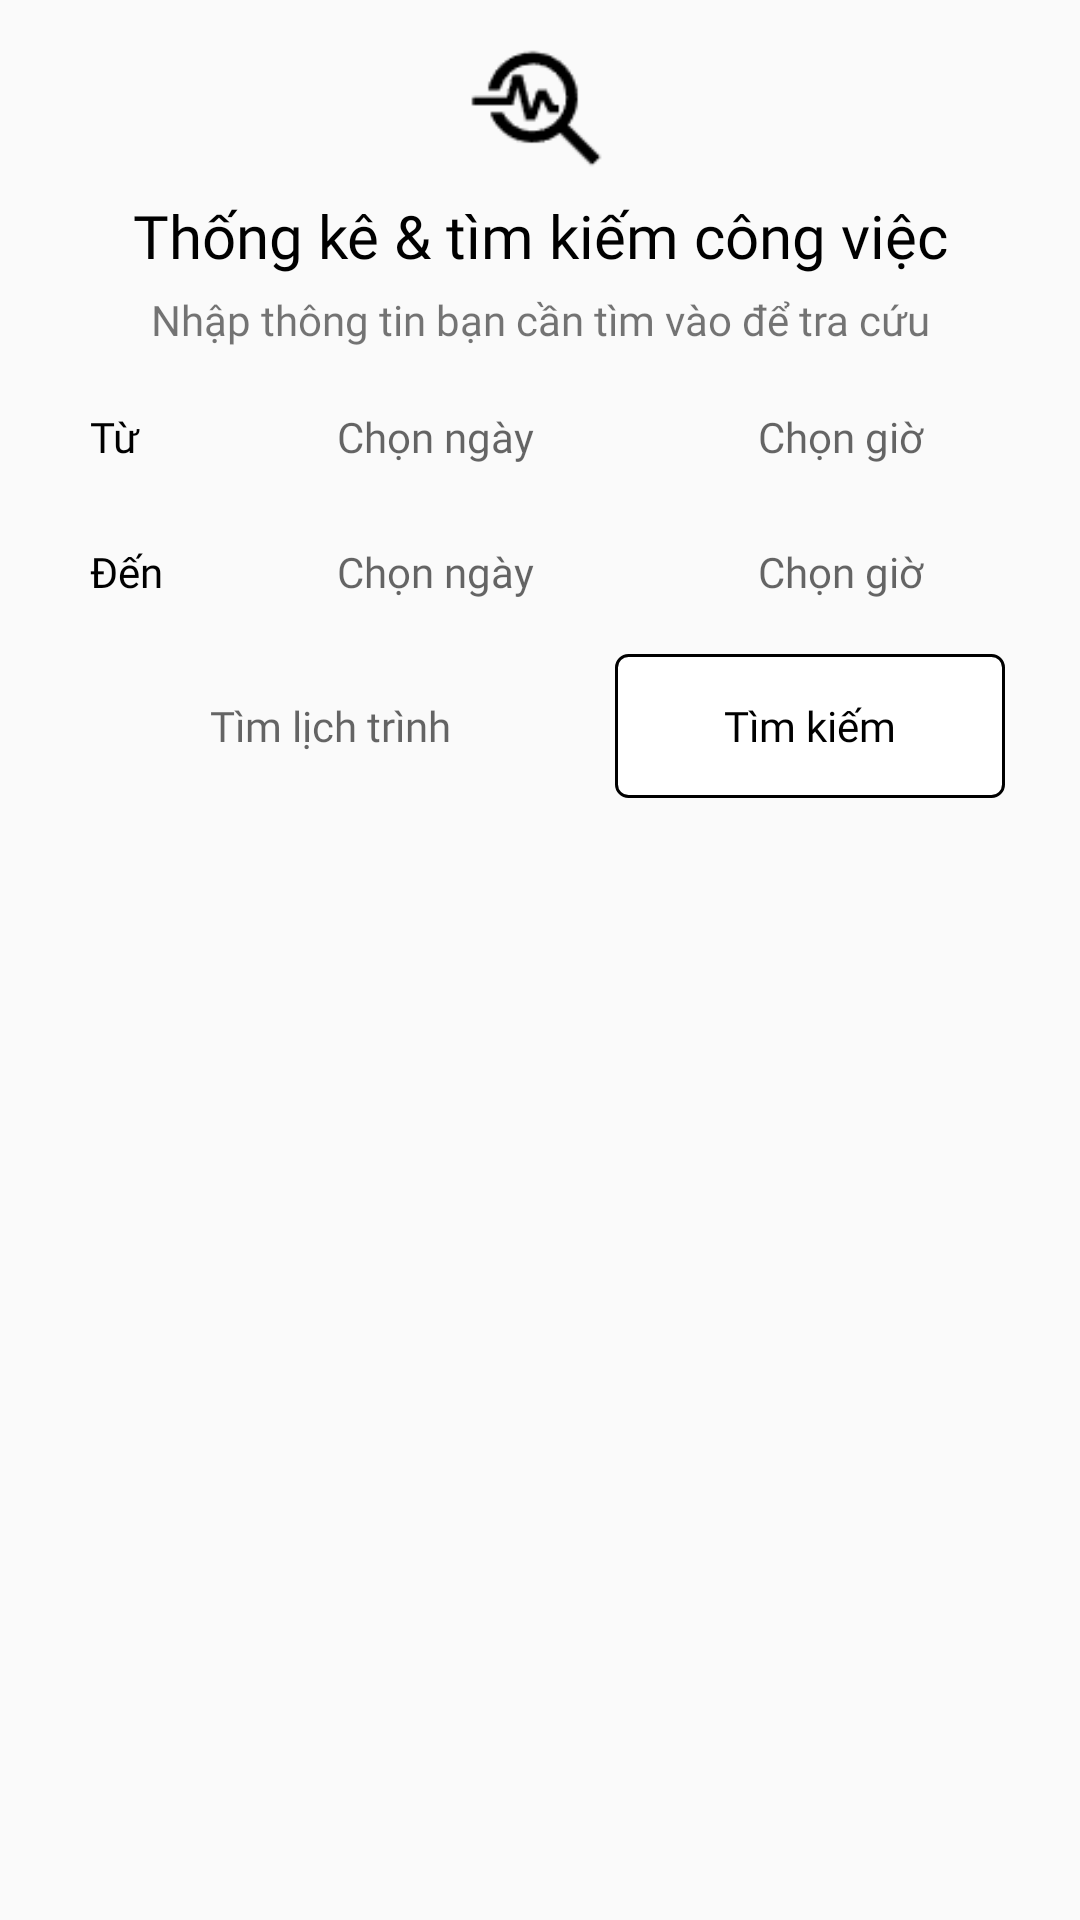

Icon bounding boxes for this 1080×1920 phone screenshot, format (x1, y1, x2, y2):
statistical search: (471, 51, 601, 165)
